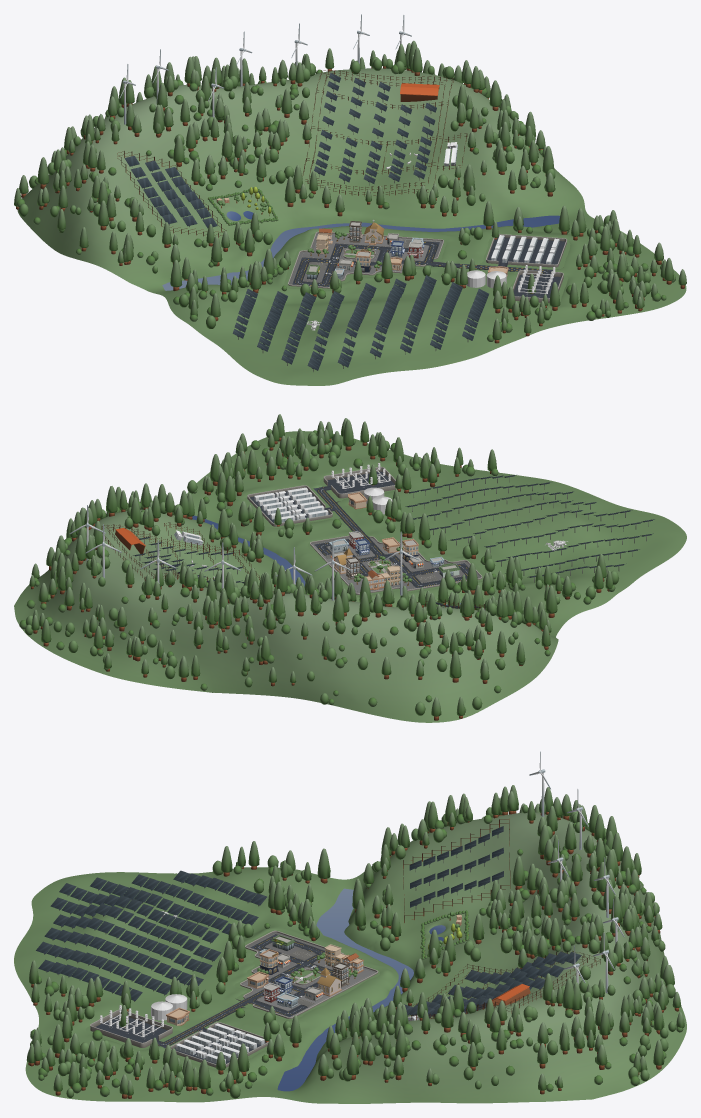
Rendered from terrain_1.glb.
3 views of the same model, one above another, from view 1: azimuth 30°, elevation 25°; view 2: azimuth 150°, elevation 25°; view 3: azimuth 270°, elevation 25° (orthographic). The views are drawn at different scales.
Parts seen in each view (by area): view 1: Ground, Env_Pine, Env_Bushes, PV_Tracker_GC, PV_Tracker_B, Buildings_T, Sidewalks, PV_Tracker_O, Water, Ground_B, Fences_B, Road_T (+5 smaller); view 2: Ground, Env_Pine, Env_Bushes, PV_Tracker_GC, Buildings_T, Sidewalks, Batteries_SB, Windturbines, Ground_T, Road_T, Ground_B, Fences_B (+3 smaller); view 3: Ground, Env_Pine, Env_Bushes, PV_Tracker_GC, Buildings_T, Water, Sidewalks, PV_Tracker_B, Batteries_SB, PV_Tracker_O, Ground_T, Road_T (+6 smaller).
Boxes of the visible parts, x1,y1,x2,y2 form: Ground: (17,68,686,385); Env_Pine: (14,40,686,343); Env_Bushes: (16,57,675,341); PV_Tracker_GC: (232,275,488,371); PV_Tracker_B: (314,73,436,185); Buildings_T: (306,219,424,279); Sidewalks: (284,231,446,290); PV_Tracker_O: (124,156,217,228); Water: (162,211,559,290); Ground_B: (479,234,570,269); Fences_B: (302,70,467,196); Road_T: (292,241,460,286); Ground: (14,431,686,722); Env_Pine: (29,414,613,720); Env_Bushes: (19,429,618,715); PV_Tracker_GC: (405,475,654,582); Buildings_T: (329,531,460,590); Sidewalks: (307,534,484,595); Batteries_SB: (254,487,328,522); Windturbines: (69,505,419,600); Ground_T: (320,466,396,502); Road_T: (314,524,468,587); Ground_B: (244,485,340,527); Fences_B: (101,522,273,595); Ground: (14,812,686,1103); Env_Pine: (26,785,684,1098); Env_Bushes: (30,804,683,1098); PV_Tracker_GC: (36,870,266,1001); Buildings_T: (247,934,363,1008); Water: (277,888,445,1091); Sidewalks: (234,930,379,1019); PV_Tracker_B: (404,951,581,1018); Batteries_SB: (175,1023,264,1063); PV_Tracker_O: (409,826,503,909); Ground_T: (85,1009,182,1049); Road_T: (222,934,332,1016).
Bounding box in the file's own units: 47.95 × 16.19 × 54.44.
Materials: 7 (6 with a texture image).
